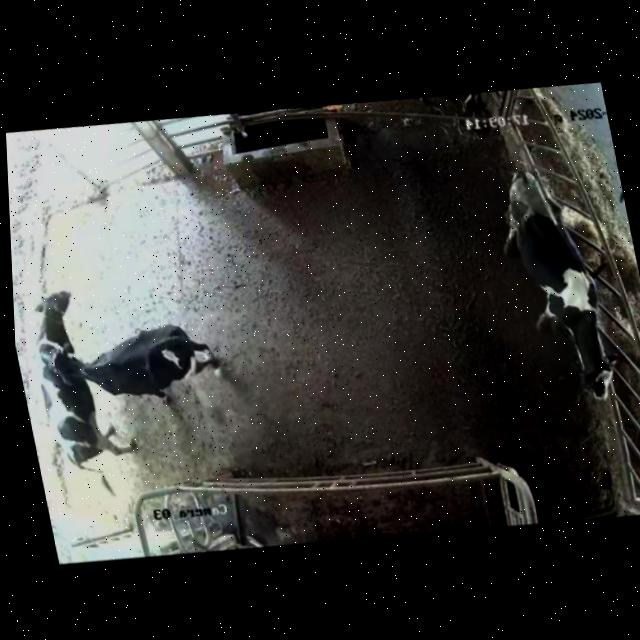propping: (30, 326, 116, 400)
stand: (480, 154, 633, 425), (12, 276, 134, 494)
